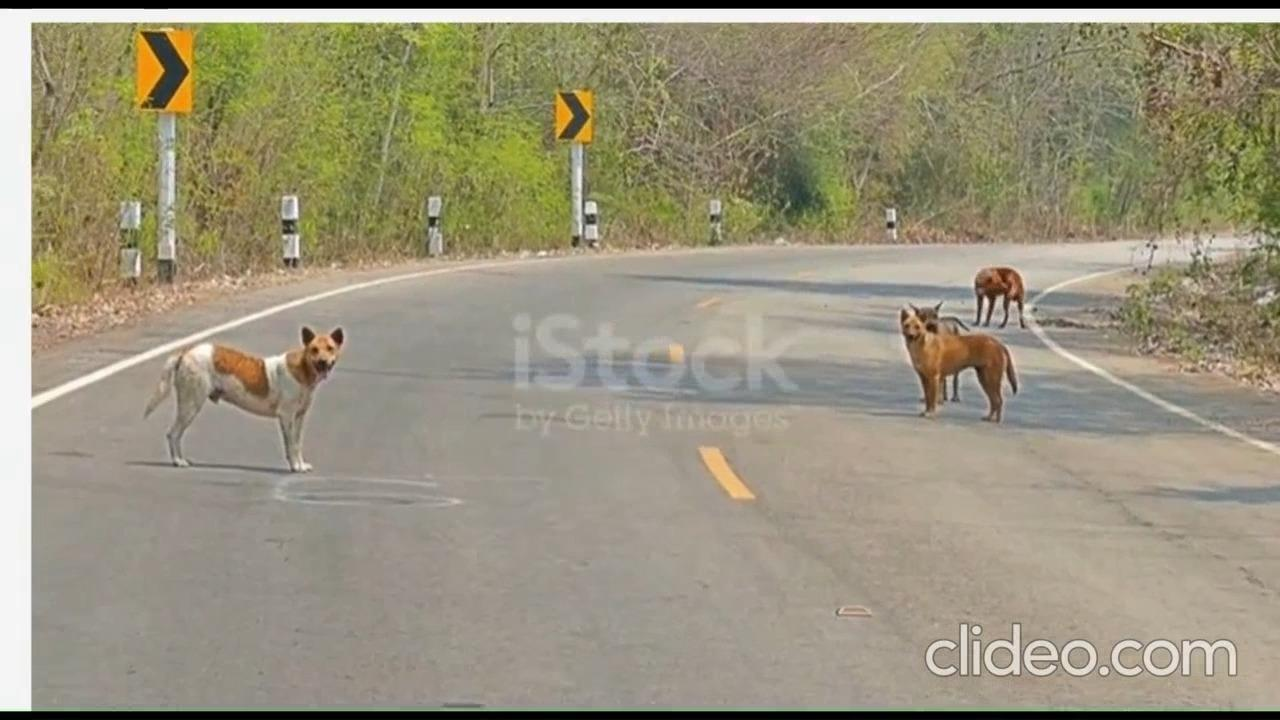dog: (60, 330, 279, 489), (882, 309, 1006, 424), (948, 256, 1043, 335)
